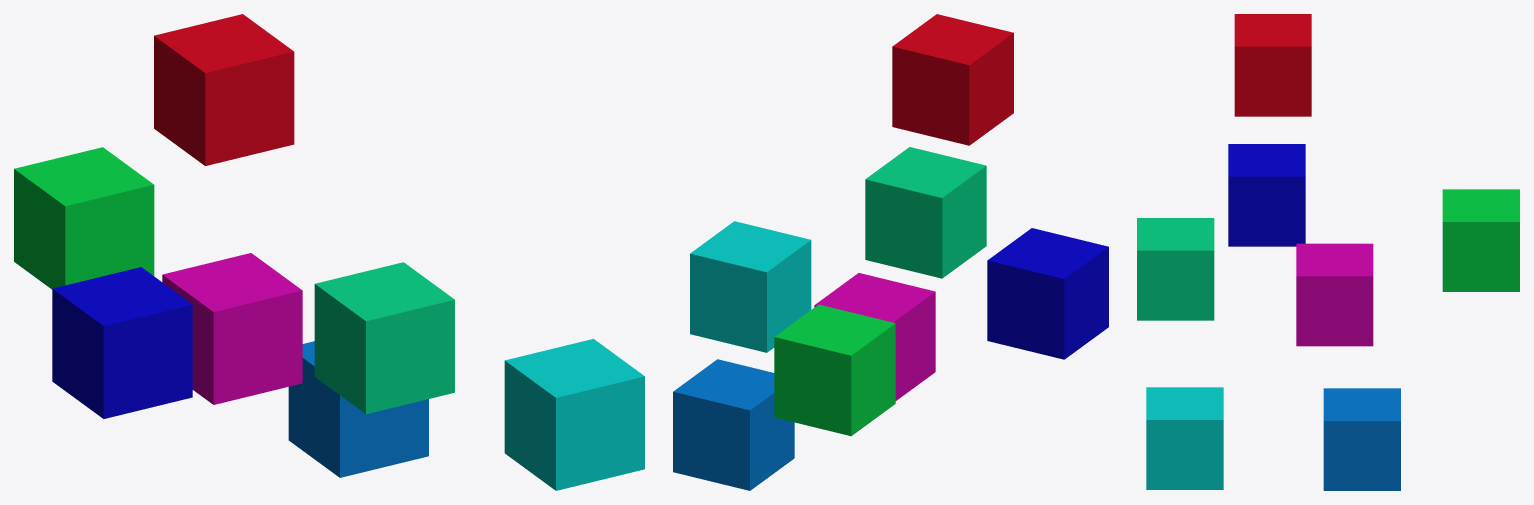
The model's file is ObjectSubset.dae.
3 views of the same model, side by side, from view 1: azimuth 30°, elevation 25°; view 2: azimuth 150°, elevation 25°; view 3: azimuth 270°, elevation 25° (orthographic). The views are drawn at different scales.
Parts seen in each view (by area): view 1: Cube_006; view 2: Cube_006; view 3: Cube_006.
Boxes of the visible parts, box(x1,y1,x2,y2) form: Cube_006: box(14, 14, 644, 490); Cube_006: box(673, 14, 1108, 490); Cube_006: box(1137, 14, 1519, 490).
Size of the model in its own units: 10.96 by 9.91 by 10.66.
